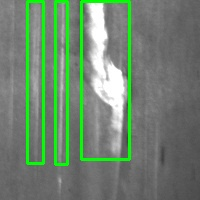scratches: (81, 1, 129, 159), (27, 1, 43, 163), (55, 1, 67, 164)
